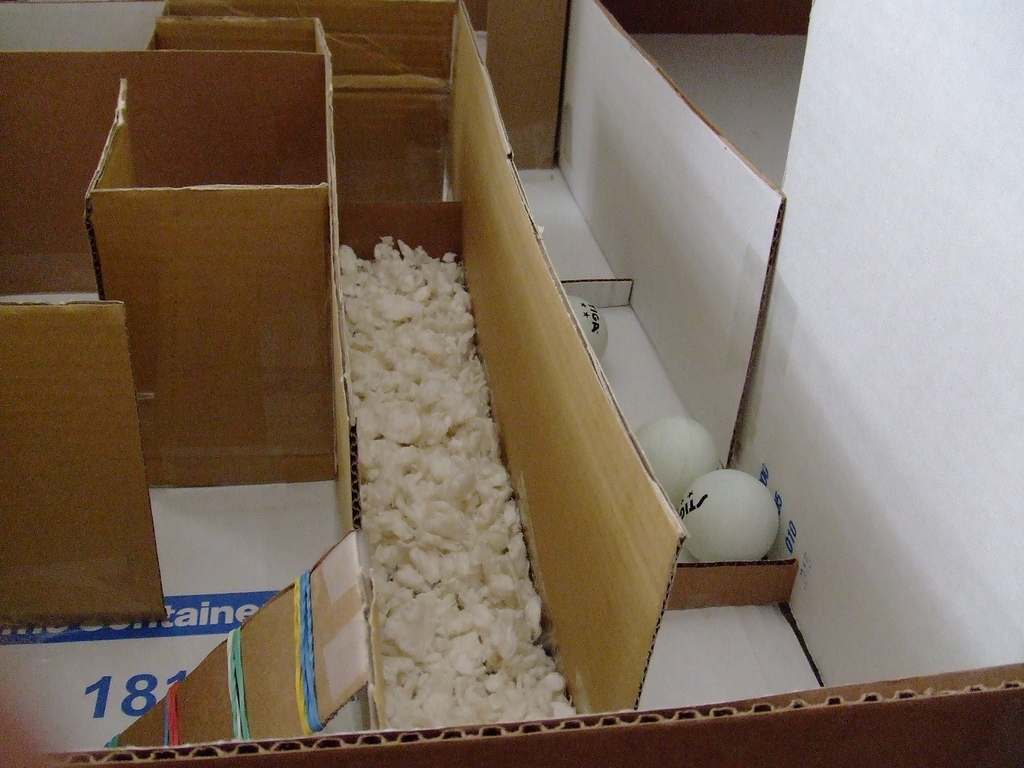Ball: (684, 471, 788, 564), (645, 418, 730, 505), (566, 296, 608, 358)
